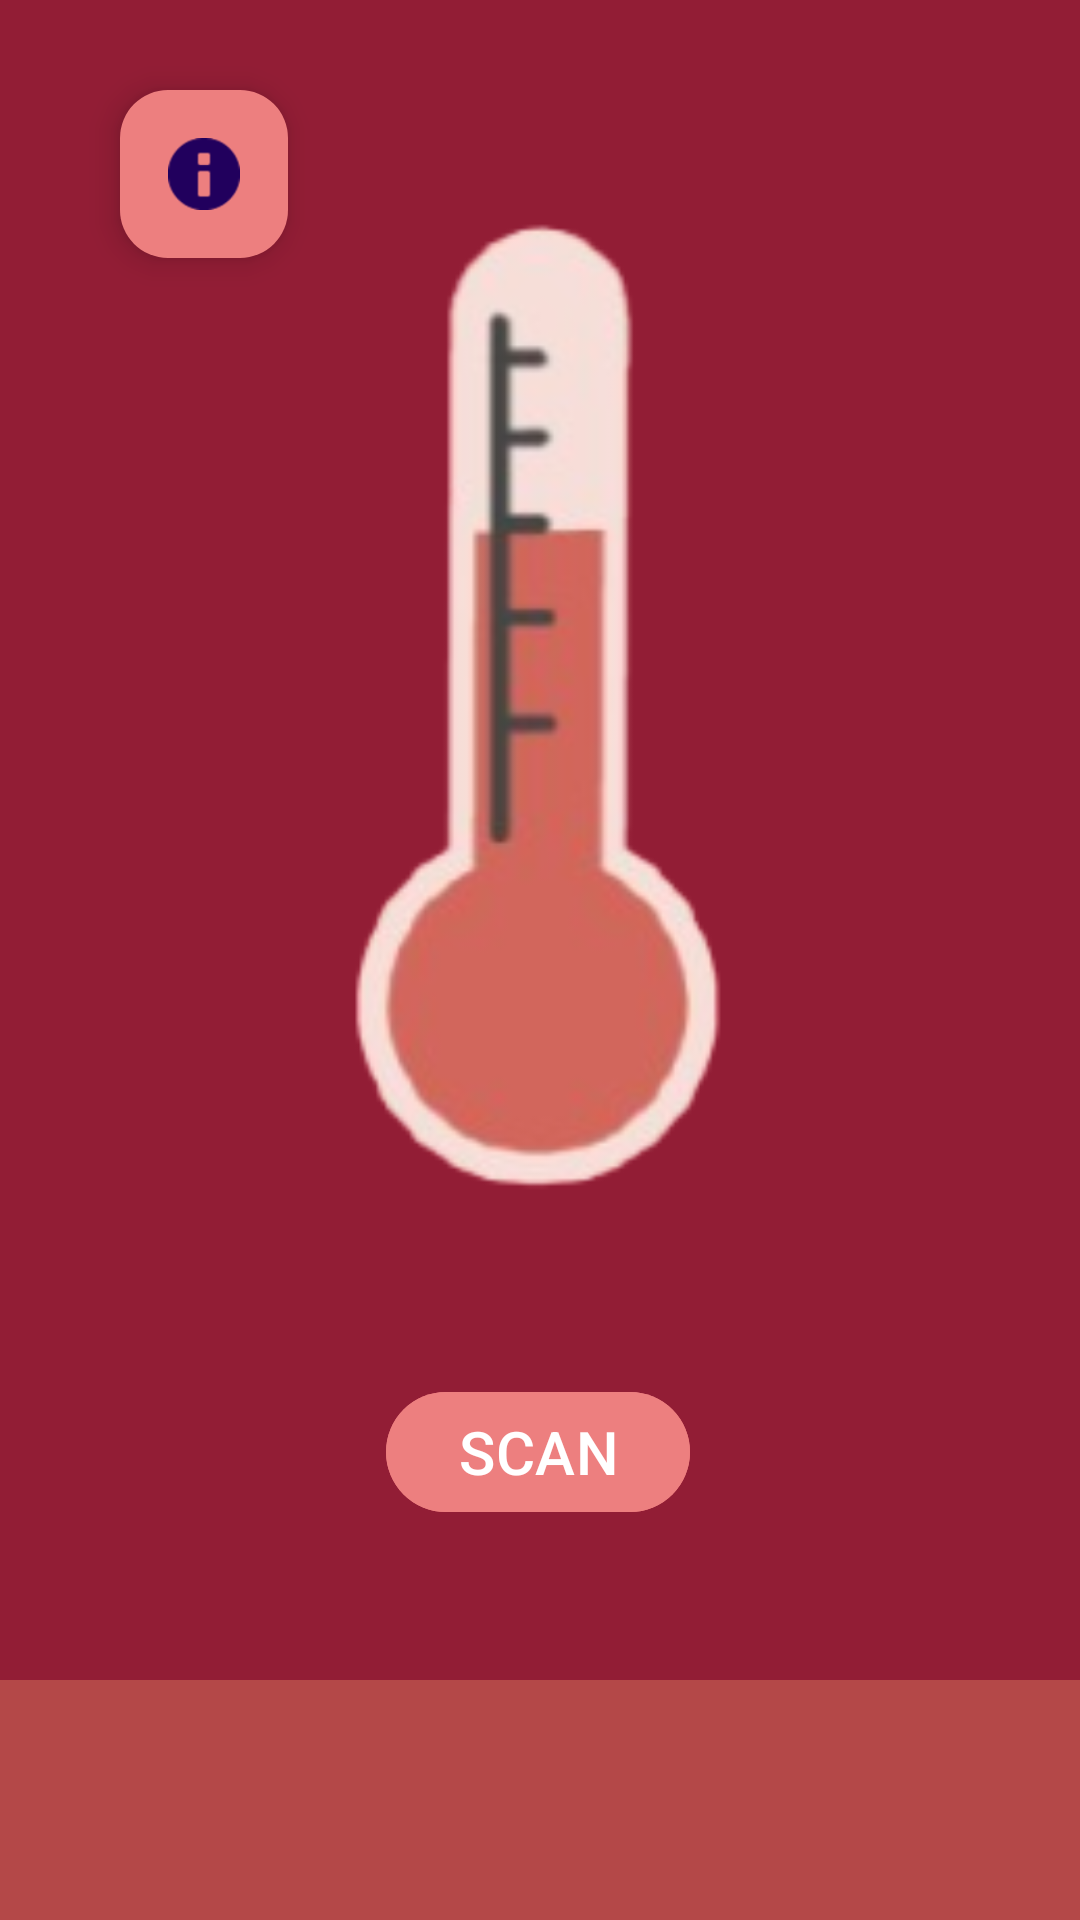

Locate icon controls on the screen. Image size 1080px x 1920px, boxes as (x1, y1, x2, y2).
info: (120, 90, 288, 258)
